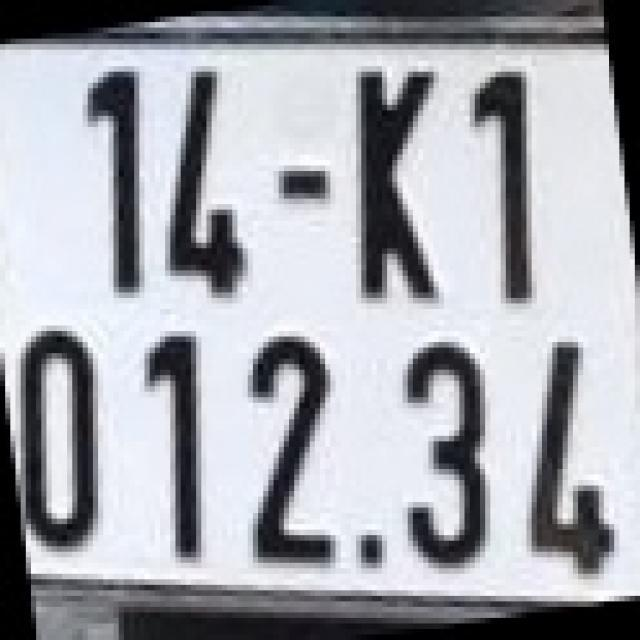0: (20, 326, 104, 552)
1: (464, 60, 548, 304), (139, 331, 217, 557), (82, 61, 150, 298)
2: (242, 331, 340, 568)
3: (398, 336, 496, 568)
4: (526, 336, 620, 580), (165, 66, 253, 298)
K: (351, 55, 444, 304)
